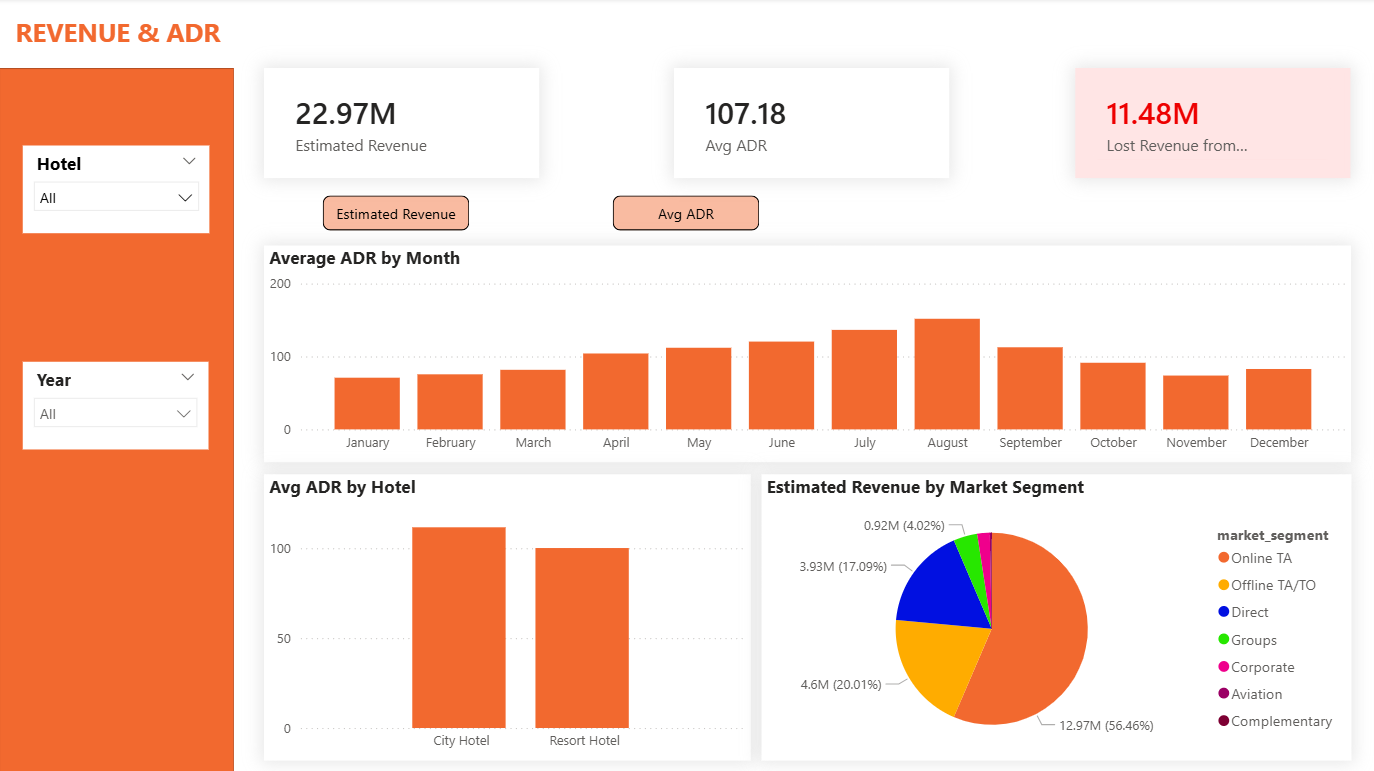

The dashboard page shown, as its layout file describes it:
{"tool":"powerbi","page":{"name":"Revenue & ADR","canvas":[1280,720],"ordinal":2},"visuals":[{"type":"shape","box":[0,65,218.8,670],"z":0},{"type":"slicer","fields":{"Values":["vw_hotel_bookings.hotel"]},"box":[22.5,137.5,173.8,81.2],"z":1000},{"type":"slicer","fields":{"Values":["vw_date_dimension.year"]},"box":[22.5,338.8,172.5,81.2],"z":2000},{"type":"textbox","box":[10,10.8,493.1,46.2],"z":5000},{"type":"cardVisual","fields":{"Data":["MeasureTable.Estimated Revenue"]},"box":[246.5,65.1,255.8,102.3],"z":6000},{"type":"clusteredColumnChart","title":"Average ADR by Month","fields":{"Category":["vw_date_dimension.month_name"],"Y":["MeasureTable.Avg ADR"]},"box":[246.2,230,1011.2,201.2],"z":8000},{"type":"columnChart","title":"Avg ADR by Hotel","fields":{"Y":["MeasureTable.Avg ADR"],"Category":["vw_hotel_bookings.hotel"]},"box":[246.2,442.5,452.5,266.2],"z":9000},{"type":"pieChart","title":"Estimated Revenue by Market Segment","fields":{"Category":["vw_hotel_bookings.market_segment"],"Y":["MeasureTable.Estimated Revenue"]},"box":[708.8,442.5,548.8,266.2],"z":10000},{"type":"cardVisual","fields":{"Data":["MeasureTable.Avg ADR"]},"box":[627.9,65.1,255.8,102.3],"z":11000},{"type":"cardVisual","fields":{"Data":["MeasureTable.Lost Revenue from Cancellations"]},"box":[1001.2,65.1,255.8,102.3],"z":12000},{"type":"actionButton","title":"Total Booking","box":[301.2,183.8,136.2,32.5],"z":13000},{"type":"actionButton","title":"Total Booking","box":[571.2,183.8,136.2,32.5],"z":14000}]}

Visuals, with their boxes in screenshot pixels (x1, y1, x2, y2), scaled from the page's 1280x720 canvas onto the 1374x771 screenshot:
shape: box(0, 70, 235, 770)
slicer - vw_hotel_bookings.hotel: box(24, 147, 211, 234)
slicer - vw_date_dimension.year: box(24, 363, 209, 450)
textbox: box(11, 12, 540, 61)
cardVisual - MeasureTable.Estimated Revenue: box(265, 70, 539, 179)
"Average ADR by Month" clusteredColumnChart: box(264, 246, 1350, 462)
"Avg ADR by Hotel" columnChart: box(264, 474, 750, 759)
"Estimated Revenue by Market Segment" pieChart: box(761, 474, 1350, 759)
cardVisual - MeasureTable.Avg ADR: box(674, 70, 949, 179)
cardVisual - MeasureTable.Lost Revenue from Cancellations: box(1075, 70, 1349, 179)
"Total Booking" actionButton: box(323, 197, 470, 232)
"Total Booking" actionButton: box(613, 197, 759, 232)
